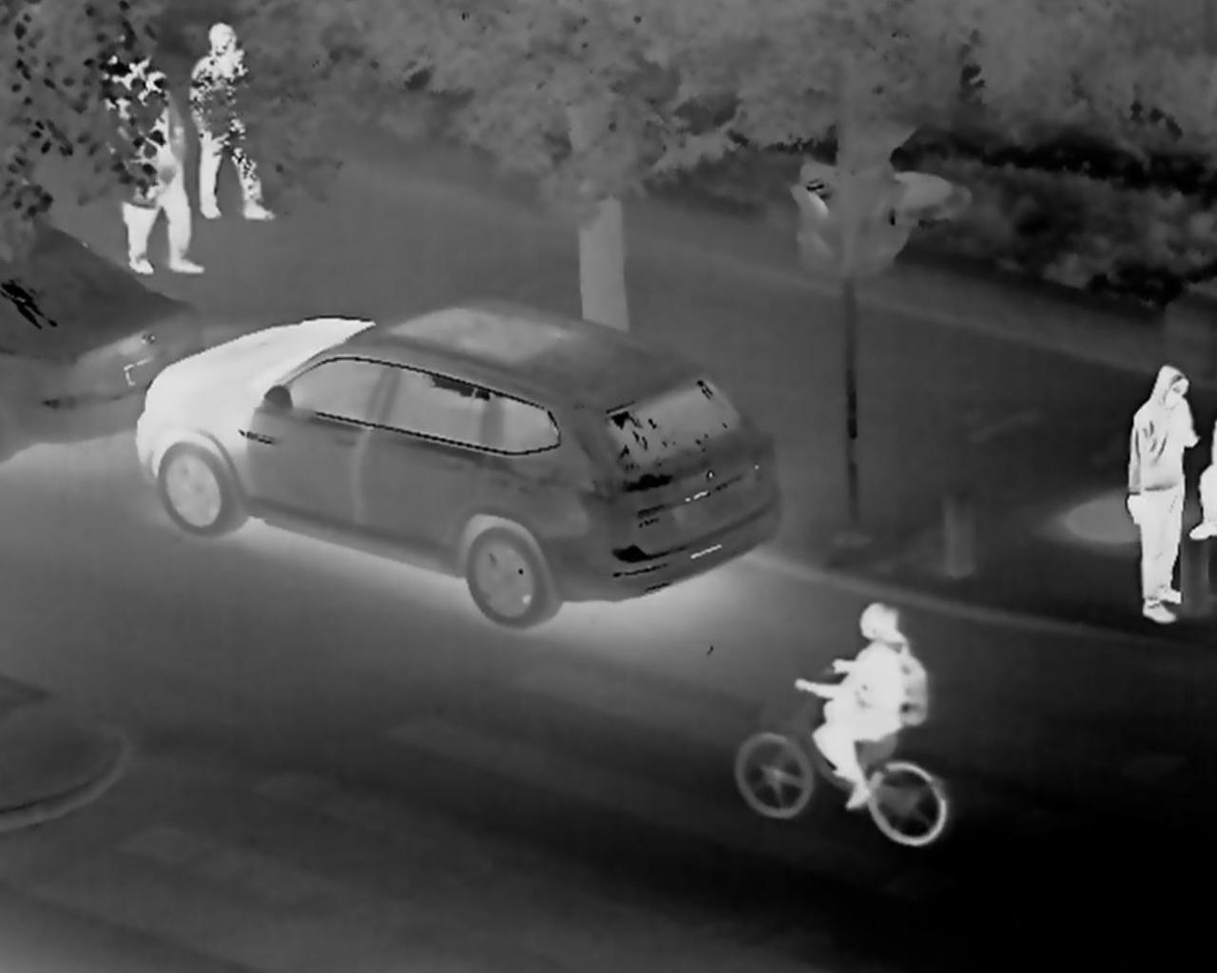person: (797, 595, 924, 814), (111, 47, 202, 277), (1124, 357, 1195, 628), (189, 19, 276, 225)
